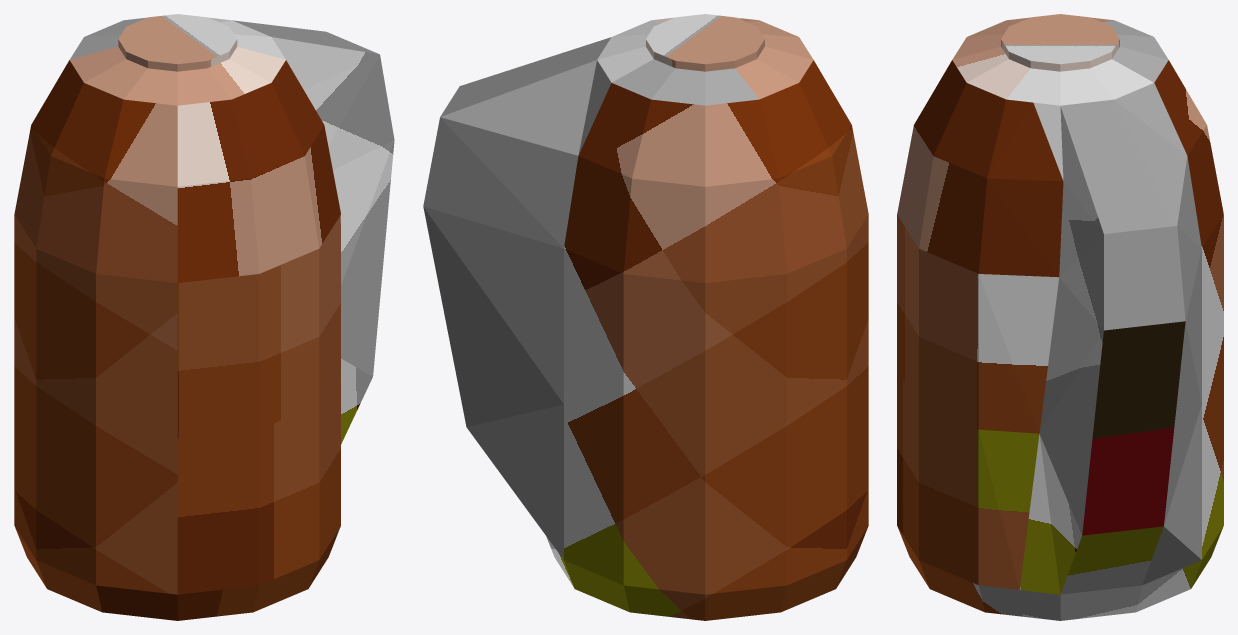
The model's file is bottle_616x04.gltf.
3 renders of one model, left to right at view 1: azimuth 30°, elevation 25°; view 2: azimuth 150°, elevation 25°; view 3: azimuth 270°, elevation 25°, orthographic.
Visible parts, largest first — view 1: bottle_616x04; view 2: bottle_616x04; view 3: bottle_616x04.
Boxes of the visible parts, bbox=[...] form: bottle_616x04: bbox=[14, 14, 394, 620]; bottle_616x04: bbox=[423, 14, 868, 620]; bottle_616x04: bbox=[897, 14, 1223, 620].
Bounding box in the file's own units: 0.8058 × 1.05 × 0.6.
Materials: 1 (1 with a texture image).
